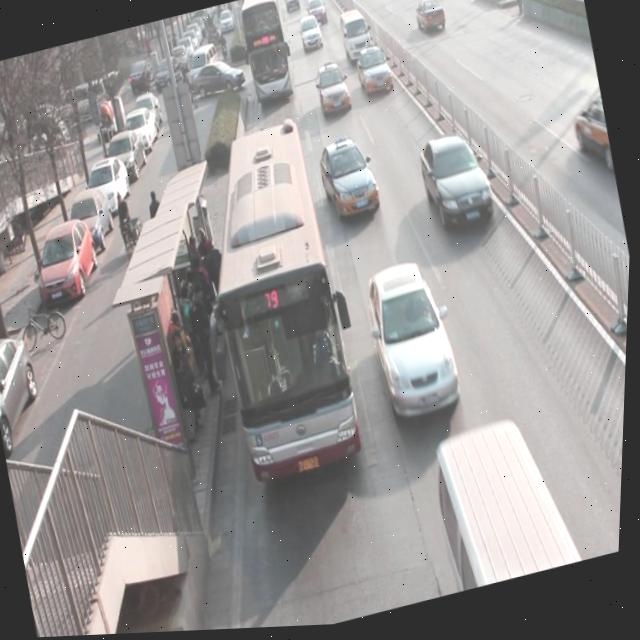car: (361, 256, 472, 426), (415, 130, 500, 239), (315, 135, 386, 223), (569, 97, 617, 180), (353, 50, 397, 102), (314, 65, 354, 115), (411, 0, 450, 42), (296, 17, 324, 58), (305, 0, 329, 30), (282, 0, 302, 15)
truck: (430, 419, 588, 593), (337, 9, 377, 71)
van: (178, 119, 379, 492), (234, 0, 298, 108)
